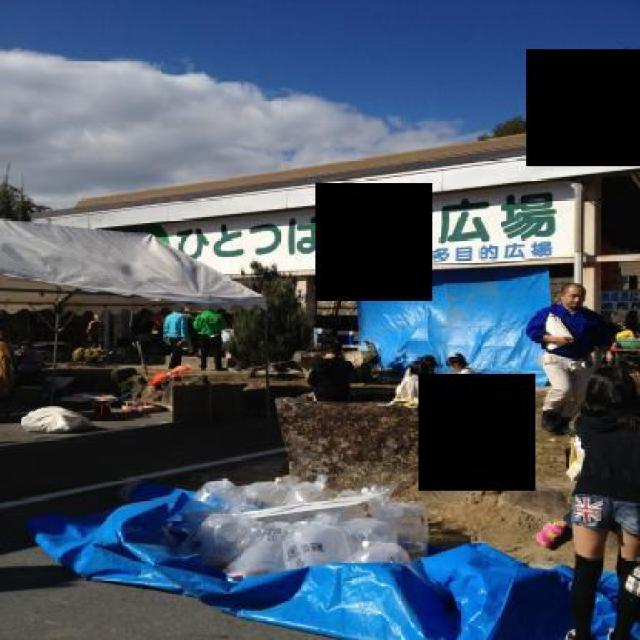plastic bag: (157, 476, 428, 584)
